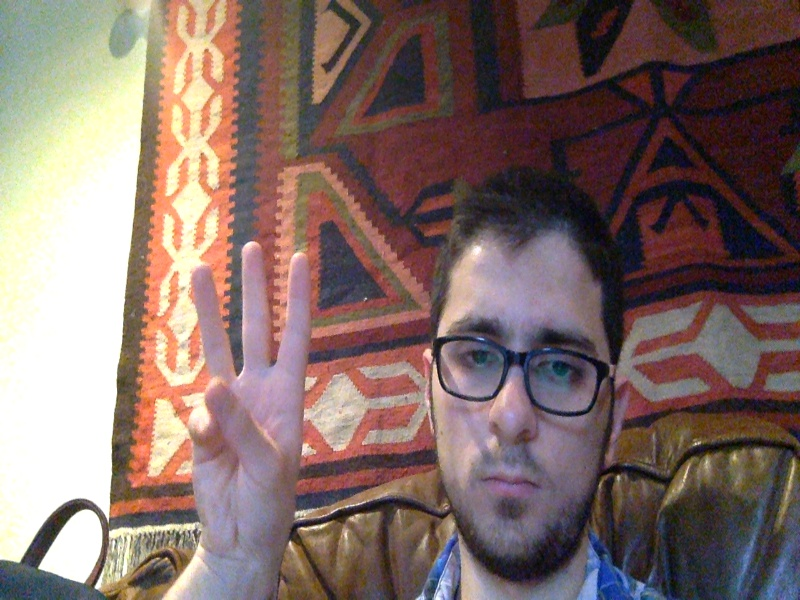3-hand: (188, 241, 309, 541)
